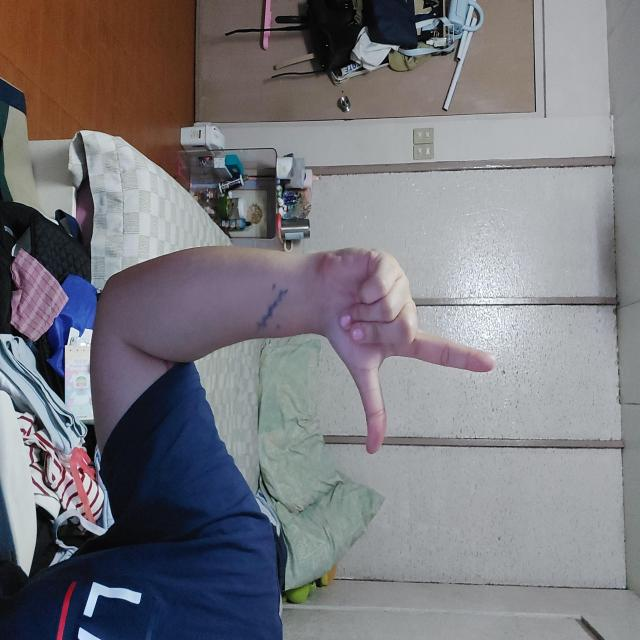L: (246, 143, 455, 321)
